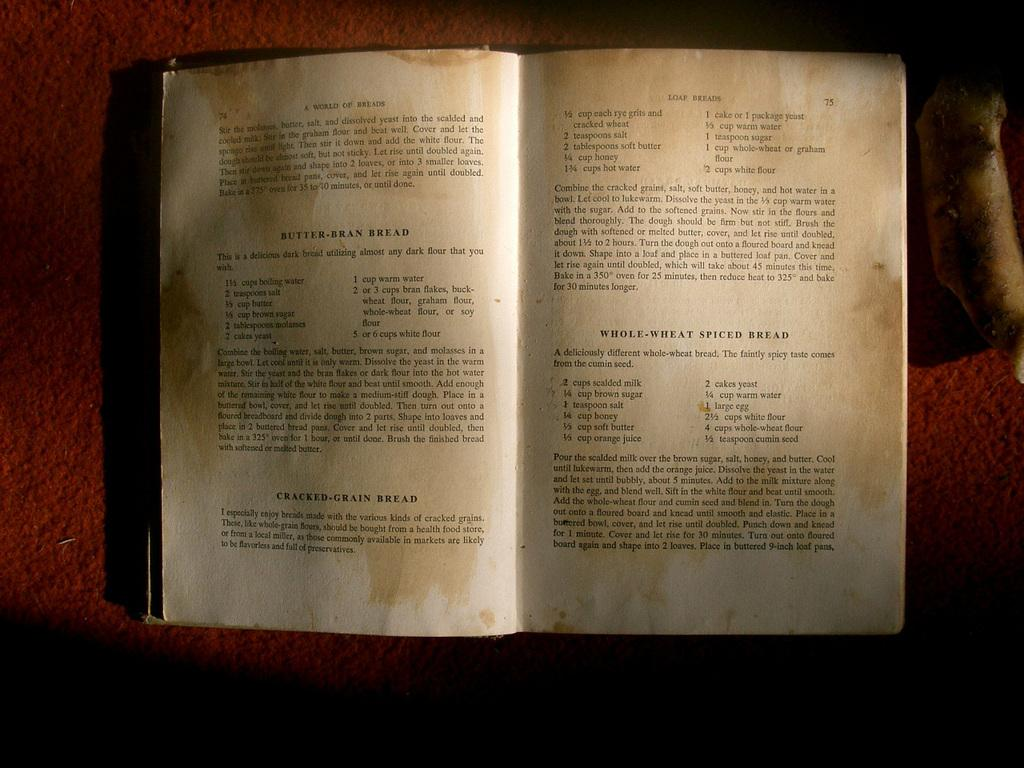book: (129, 10, 955, 652)
